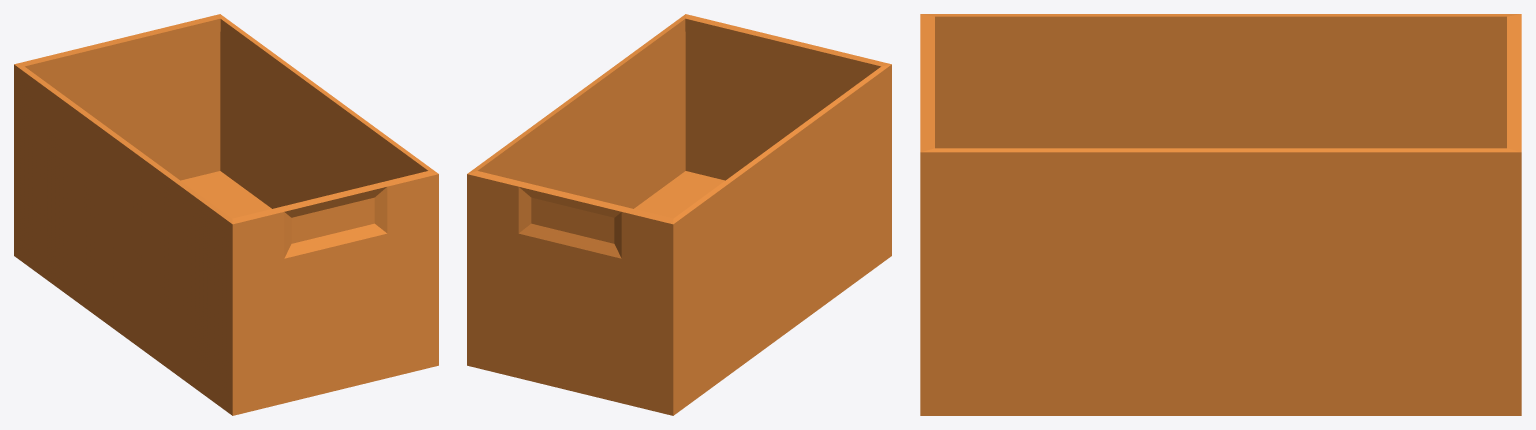
3 renders of one model, left to right at view 1: azimuth 30°, elevation 25°; view 2: azimuth 150°, elevation 25°; view 3: azimuth 270°, elevation 25°, orthographic. The views are drawn at different scales.
Parts seen in each view (by area): view 1: Box002; view 2: Box002; view 3: Box002.
Part boxes in pixels (box(x1,y1,x2,y2)): Box002: box(14, 14, 438, 415); Box002: box(467, 14, 891, 415); Box002: box(920, 14, 1521, 415).
Size of the model in its own units: 177 by 157 by 325.
